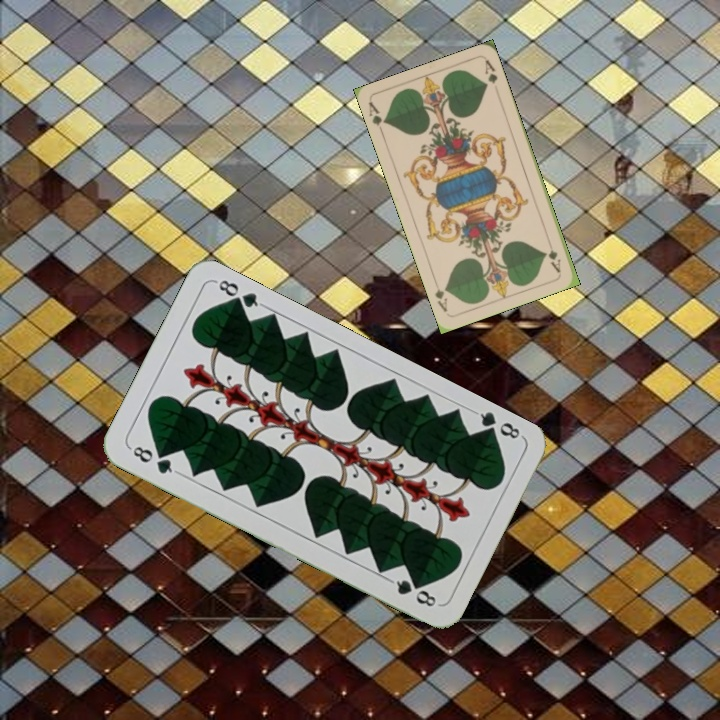G8: (470, 406, 525, 443), (126, 442, 181, 477)
GA: (365, 98, 390, 138), (543, 235, 564, 275)
